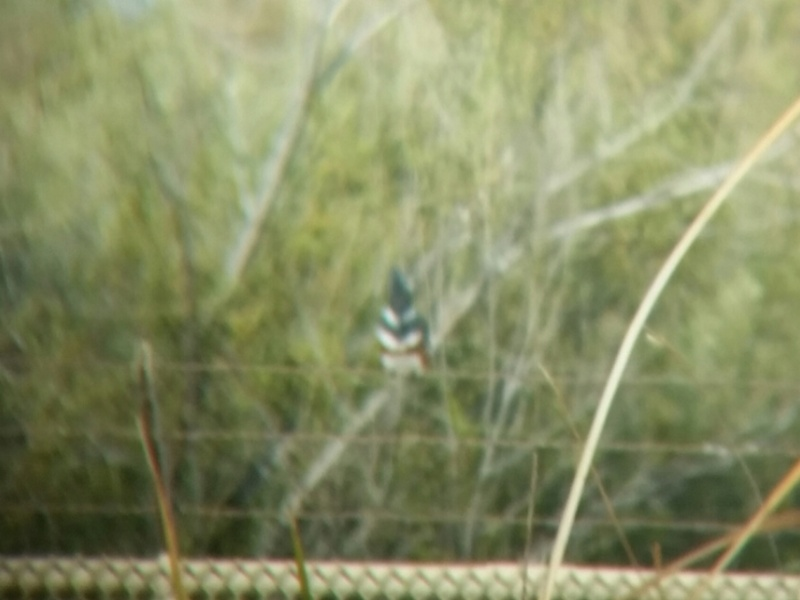kingfisher: (375, 266, 434, 384)
